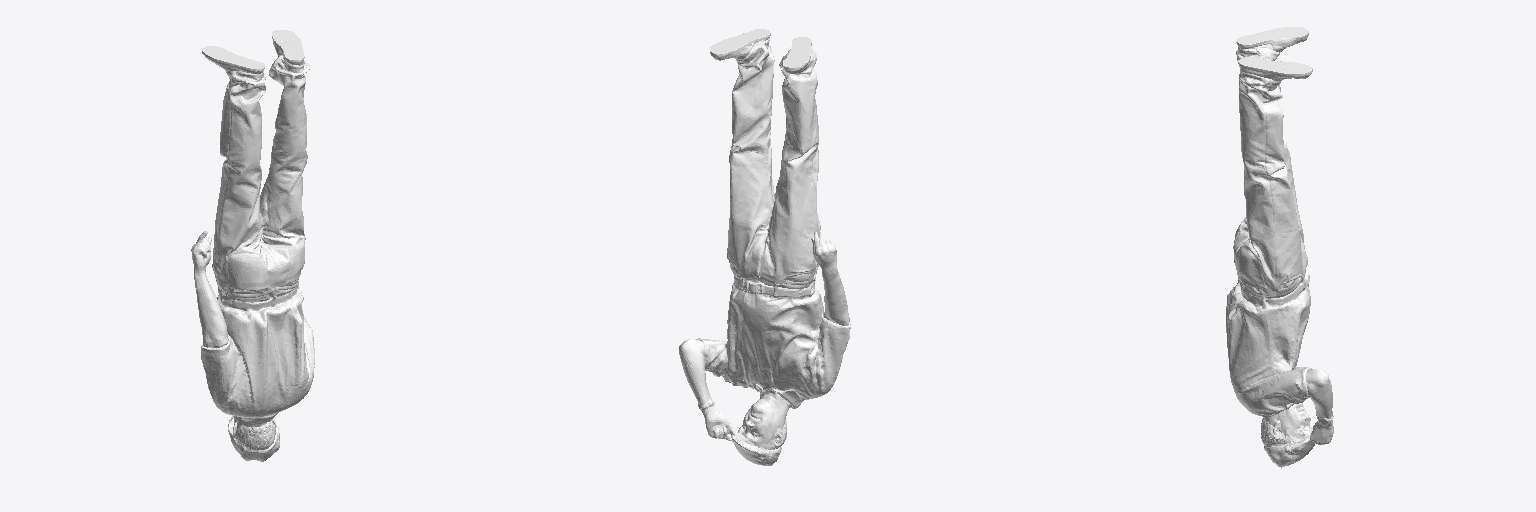
File: Man.obj
3 renders of one model, left to right at view 1: azimuth 30°, elevation 25°; view 2: azimuth 150°, elevation 25°; view 3: azimuth 270°, elevation 25°, orthographic.
Parts seen in each view (by area): view 1: obj_40s_men; view 2: obj_40s_men; view 3: obj_40s_men.
Boxes of the visible parts, <box> form: obj_40s_men: <box>191,30,314,461</box>; obj_40s_men: <box>679,29,850,465</box>; obj_40s_men: <box>1226,27,1333,467</box>.
Size of the model in its own units: 322 by 934 by 219.